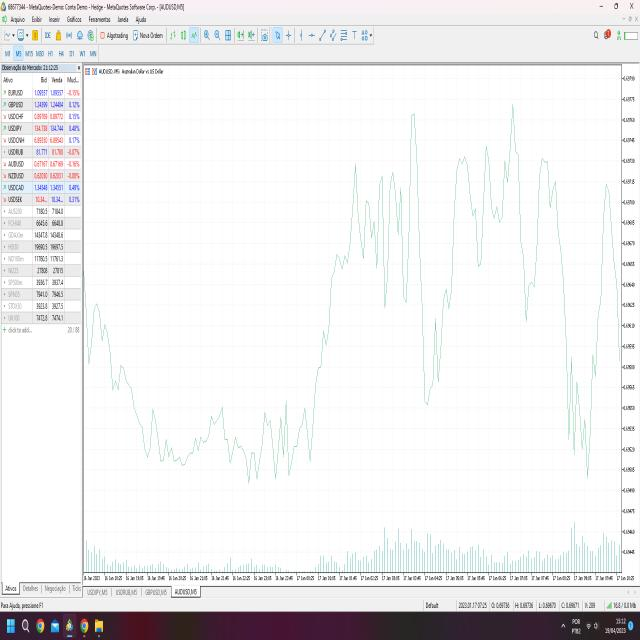fundo_duplo: (528, 144, 622, 524)
